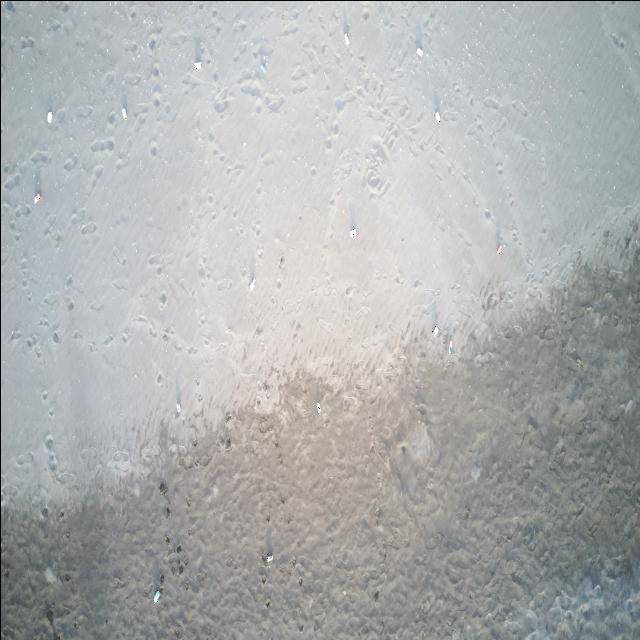Garbage: (32, 192, 40, 203), (154, 588, 160, 602), (121, 107, 127, 119), (415, 46, 422, 56), (193, 60, 200, 70), (447, 340, 452, 353), (350, 226, 355, 236), (435, 111, 440, 121), (47, 111, 51, 123), (433, 324, 437, 336), (316, 403, 320, 412)
